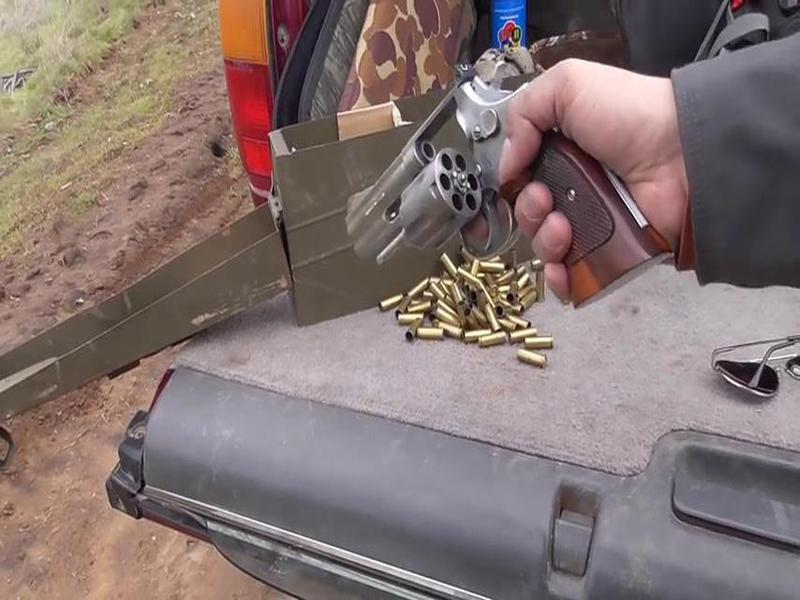Revolver: (343, 32, 642, 325)
